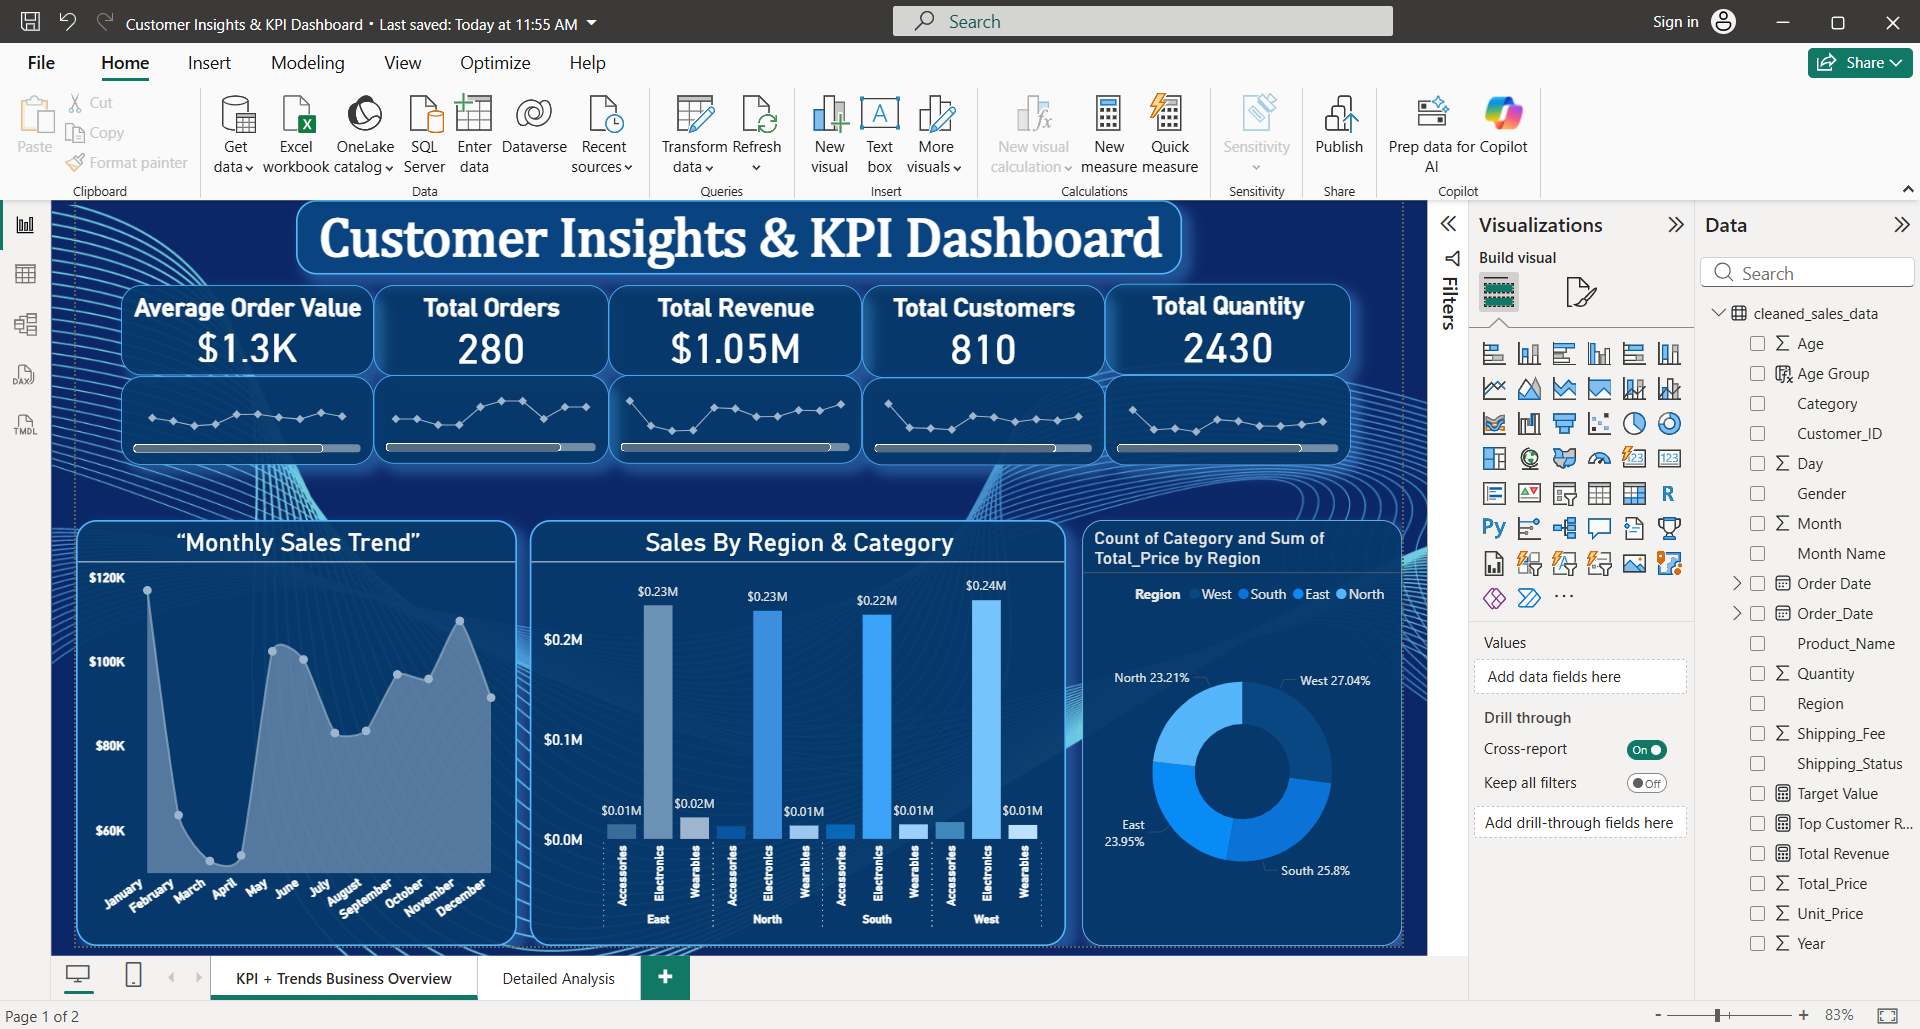

The page's visual inventory and layout, read from the dashboard file:
{"tool":"powerbi","page":{"name":"KPI + Trends Business Overview","canvas":[1280,720],"ordinal":0},"visuals":[{"type":"card","title":"Total Quantity","fields":{"Values":["Sum(cleaned_sales_data.Quantity)"]},"box":[992.9,80.8,237.7,88.1],"z":0},{"type":"card","title":"Total Orders","fields":{"Values":["CountNonNull(cleaned_sales_data.Customer_ID)"]},"box":[287.1,82,226.8,88.1],"z":1000},{"type":"card","title":"Average Order Value","fields":{"Values":["Avg(cleaned_sales_data.Total_Price)"]},"box":[748,84.5,243.7,86.9],"z":2000},{"type":"card","title":"Total Customers","fields":{"Values":["Count(cleaned_sales_data.Customer_ID)"]},"box":[513.9,82,234,89.3],"z":3000},{"type":"card","title":"Total Revenue","fields":{"Values":["Sum(cleaned_sales_data.Total_Price)"]},"box":[43.4,80.8,244.9,88.1],"z":4000},{"type":"textbox","title":"Customer Insights & KPI Dashboard","box":[212.3,0,855.4,72.4],"z":5000},{"type":"lineChart","title":"Total Revenue ","fields":{"Y":["Sum(cleaned_sales_data.Total_Price)"],"Category":["cleaned_sales_data.Order Date.Variation.Date Hierarchy.Month"]},"box":[43.4,168.9,244.9,85.7],"z":6000},{"type":"lineChart","title":"Total Revenue ","fields":{"Y":["CountNonNull(cleaned_sales_data.Customer_ID)"],"Category":["cleaned_sales_data.Order Date.Variation.Date Hierarchy.Month"]},"box":[513.9,171.3,234,84.5],"z":7000},{"type":"lineChart","title":"Total Revenue ","fields":{"Y":["Sum(cleaned_sales_data.Quantity)"],"Category":["cleaned_sales_data.Order Date.Variation.Date Hierarchy.Month"]},"box":[992.9,168.9,237.7,86.9],"z":8000},{"type":"lineChart","title":"Total Revenue ","fields":{"Y":["Avg(cleaned_sales_data.Total_Price)"],"Category":["cleaned_sales_data.Order Date.Variation.Date Hierarchy.Month"]},"box":[749.2,171.3,243.7,85.7],"z":9000},{"type":"lineChart","title":"Total Revenue ","fields":{"Y":["Count(cleaned_sales_data.Total_Price)"],"Category":["cleaned_sales_data.Order Date.Variation.Date Hierarchy.Month"]},"box":[287.1,168.9,226.8,85.7],"z":10000},{"type":"lineChart","title":"“Monthly Sales Trend”","fields":{"Category":["cleaned_sales_data.Order Date.Variation.Date Hierarchy.Month"],"Y":["Sum(cleaned_sales_data.Total_Price)"]},"box":[0,308.8,425.9,411.4],"z":11000},{"type":"clusteredColumnChart","title":"Sales By Region & Category","fields":{"Category":["cleaned_sales_data.Region","cleaned_sales_data.Category"],"Y":["Sum(cleaned_sales_data.Total_Price)"]},"box":[437.9,308.8,517.6,411.4],"z":12000},{"type":"donutChart","fields":{"Category":["cleaned_sales_data.Region"],"Y":["CountNonNull(cleaned_sales_data.Category)"]},"box":[971.2,308.8,308.8,411.4],"z":13000}]}

Visuals, with their boxes on the page's 1280x720 design canvas (x1, y1, x2, y2). These are canvas units, not pixel positions in the 1920x1029 screenshot, which may show the page scaled, cropped or inside an application window:
"Total Quantity" card: box=[993, 81, 1231, 169]
"Total Orders" card: box=[287, 82, 514, 170]
"Average Order Value" card: box=[748, 84, 992, 171]
"Total Customers" card: box=[514, 82, 748, 171]
"Total Revenue" card: box=[43, 81, 288, 169]
"Customer Insights & KPI Dashboard" textbox: box=[212, 0, 1068, 72]
"Total Revenue " lineChart: box=[43, 169, 288, 255]
"Total Revenue " lineChart: box=[514, 171, 748, 256]
"Total Revenue " lineChart: box=[993, 169, 1231, 256]
"Total Revenue " lineChart: box=[749, 171, 993, 257]
"Total Revenue " lineChart: box=[287, 169, 514, 255]
"“Monthly Sales Trend”" lineChart: box=[0, 309, 426, 720]
"Sales By Region & Category" clusteredColumnChart: box=[438, 309, 956, 720]
donutChart - cleaned_sales_data.Region x CountNonNull(cleaned_sales_data.Category): box=[971, 309, 1280, 720]
